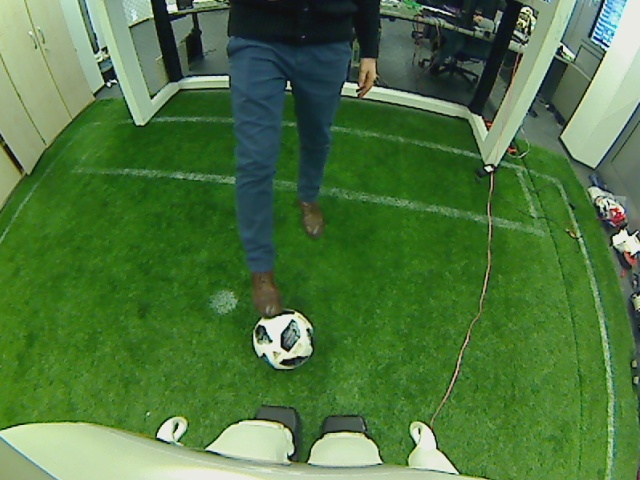ball: (251, 307, 314, 371)
